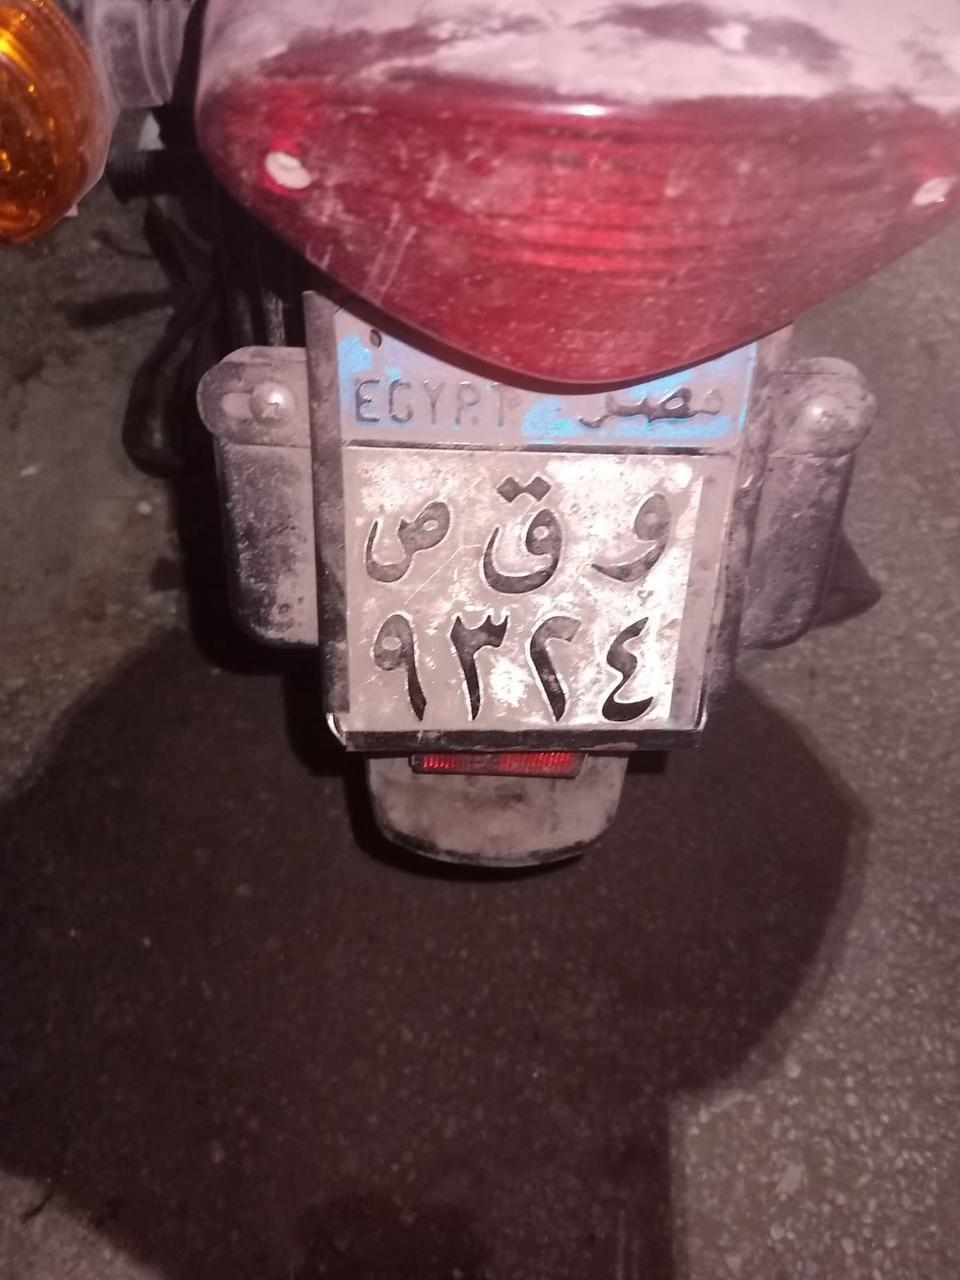License Plate: (325, 378, 723, 744)
